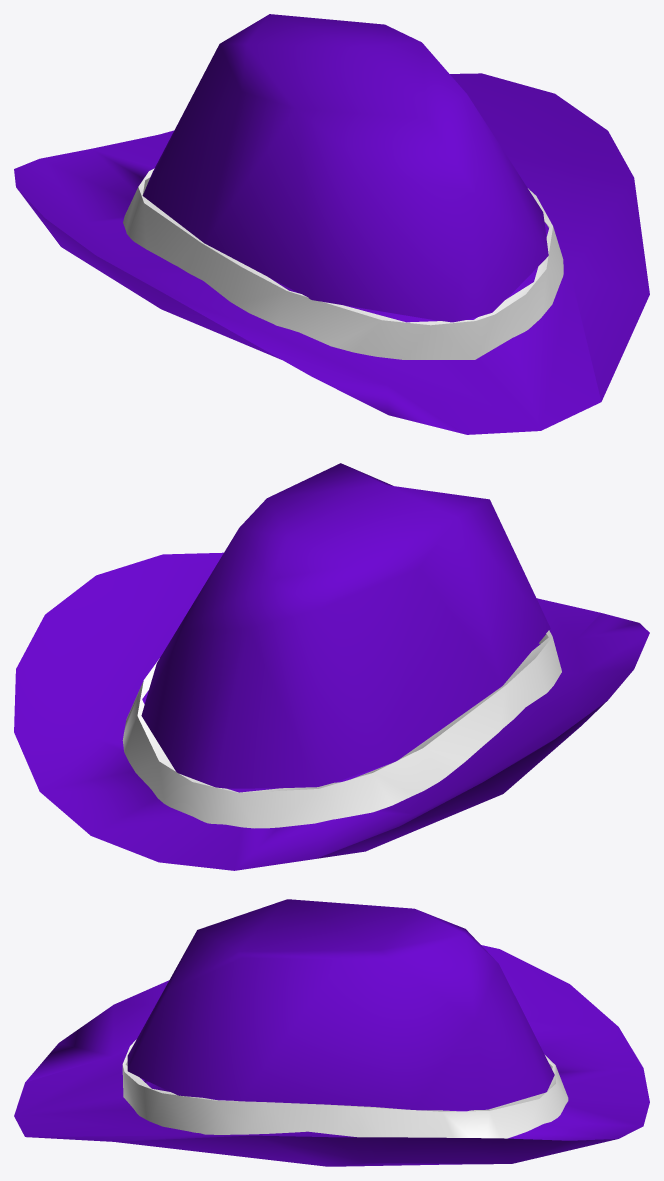
Rendered from cowboy_hat.fbx.
3 renders of one model, top to bottom at view 1: azimuth 30°, elevation 25°; view 2: azimuth 150°, elevation 25°; view 3: azimuth 270°, elevation 25°, orthographic. The views are drawn at different scales.
Parts seen in each view (by area): view 1: Group_9_1, Group_8_1, Group_10_1; view 2: Group_9_1, Group_8_1, Group_10_1; view 3: Group_9_1, Group_8_1, Group_10_1.
Part boxes in pixels (x1,y1,x2,y2): Group_9_1: [142, 14, 548, 322]; Group_8_1: [14, 73, 649, 434]; Group_10_1: [123, 168, 563, 359]; Group_9_1: [141, 463, 550, 788]; Group_8_1: [14, 552, 649, 870]; Group_10_1: [122, 630, 561, 828]; Group_9_1: [127, 899, 554, 1110]; Group_8_1: [14, 945, 649, 1166]; Group_10_1: [122, 1039, 568, 1138].
Bounding box in the file's own units: 31.09 × 13.1 × 40.2.
